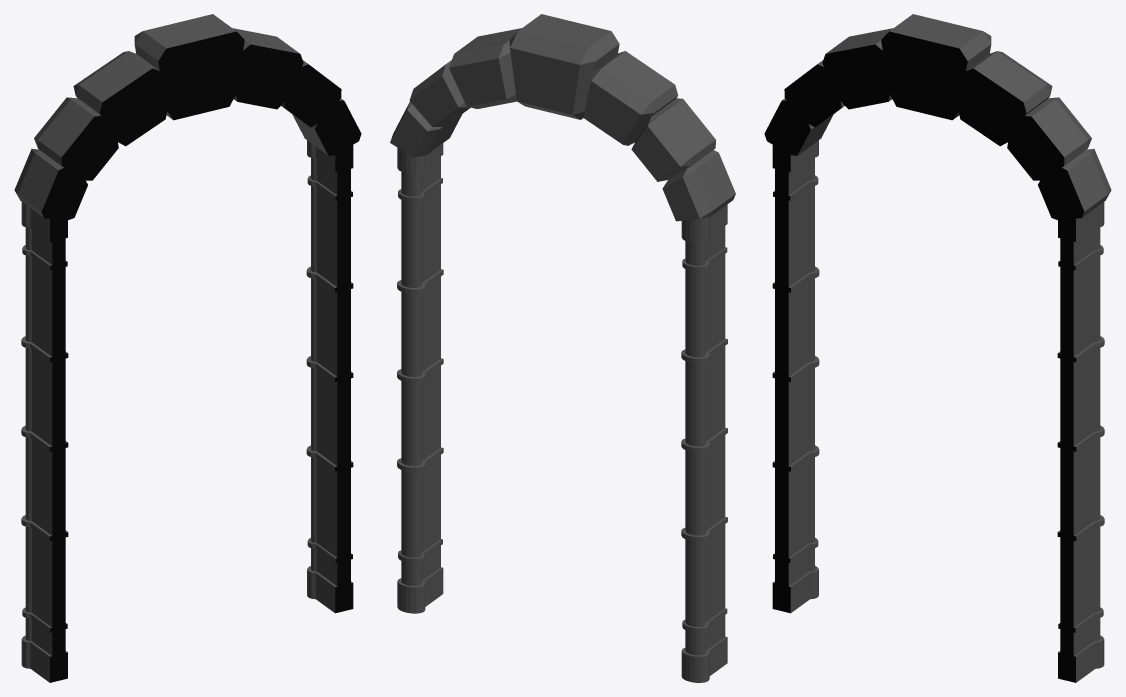
Rendered from SingleDoorframe.fbx.
3 views of the same model, side by side, from view 1: azimuth 30°, elevation 25°; view 2: azimuth 150°, elevation 25°; view 3: azimuth 330°, elevation 25° (orthographic).
Visible parts, largest first — view 1: SingleDoorframe; view 2: SingleDoorframe; view 3: SingleDoorframe.
Boxes of the visible parts, x1,y1,x2,y2 form: SingleDoorframe: (14, 14, 361, 682); SingleDoorframe: (390, 14, 735, 682); SingleDoorframe: (764, 14, 1111, 682).
Bounding box in the file's own units: 143 × 259 × 24.61.
